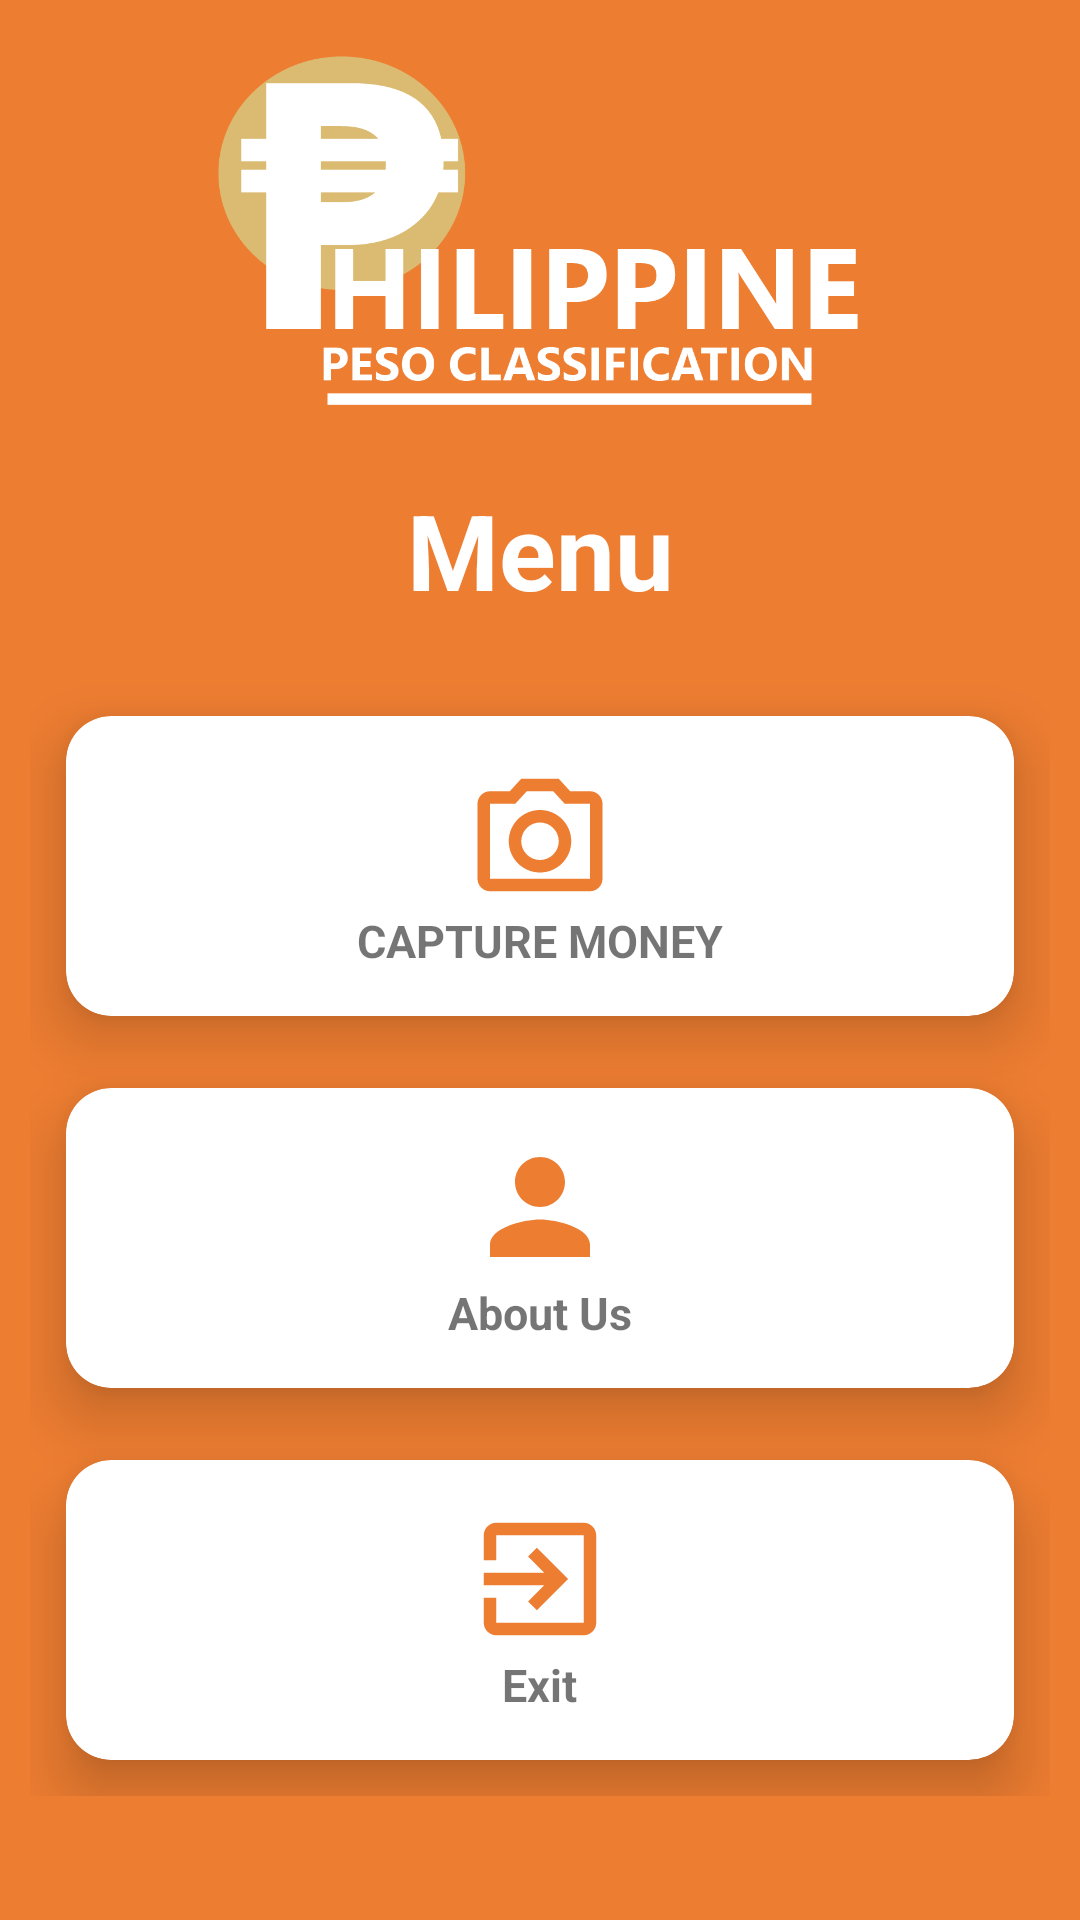

Point at icon controls on the screen. Image size 1080x1920, points as (x=x, y=y).
person: (x=540, y=1207)
photo camera: (x=540, y=835)
